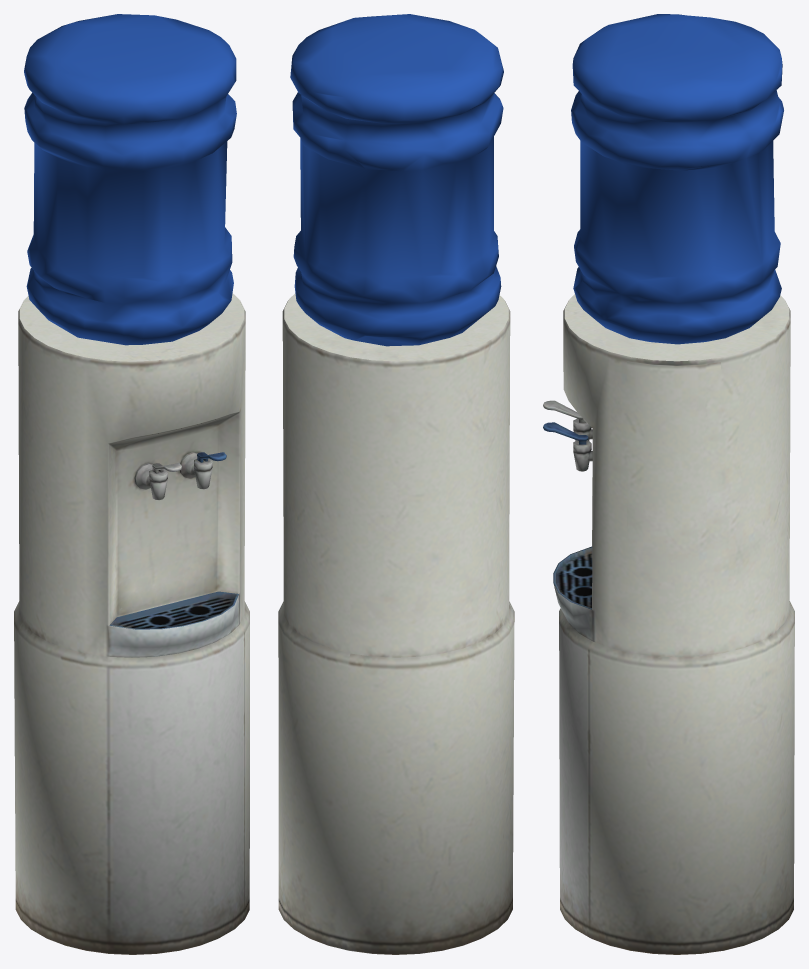
Rendered from Water cooler.FBX.
The picture shows the model from 3 angles, left to right: view 1: azimuth 30°, elevation 25°; view 2: azimuth 150°, elevation 25°; view 3: azimuth 270°, elevation 25°; orthographic projection.
Parts seen in each view (by area): view 1: Water cooler, water; view 2: Water cooler, water; view 3: Water cooler, water.
Boxes of the visible parts, x1,y1,x2,y2 form: Water cooler: (14, 293, 249, 954); water: (24, 14, 236, 345); Water cooler: (278, 293, 514, 954); water: (290, 14, 503, 346); Water cooler: (543, 294, 794, 954); water: (571, 14, 783, 344).
Bounding box in the file's own units: 37.4 × 149 × 39.72.
Materials: 2 (1 with a texture image).
